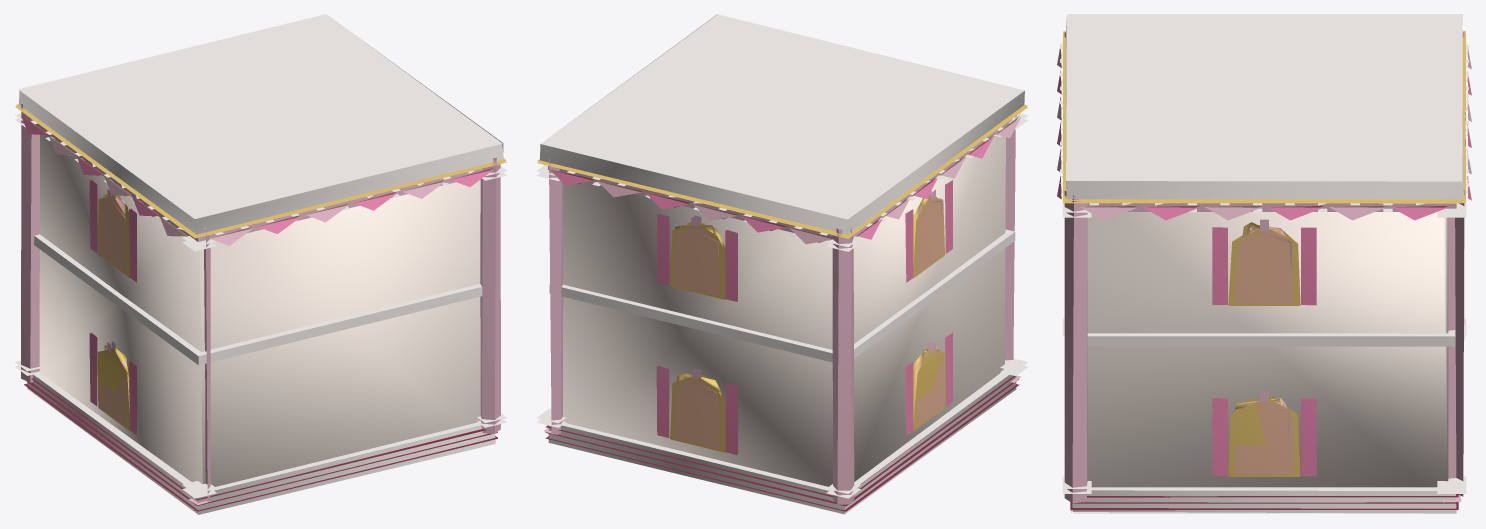
Rendered from lod_house_shell.glb.
3 renders of one model, left to right at view 1: azimuth 30°, elevation 25°; view 2: azimuth 150°, elevation 25°; view 3: azimuth 270°, elevation 25°, orthographic. The views are drawn at different scales.
Visible parts, largest first — view 1: house_shell; view 2: house_shell; view 3: house_shell.
Part boxes in pixels (x1=…): house_shell: x1=15, y1=14, x2=507, y2=514; house_shell: x1=536, y1=14, x2=1028, y2=514; house_shell: x1=1057, y1=14, x2=1471, y2=513.
Size of the model in its own units: 8.9 by 7.98 by 8.9.
